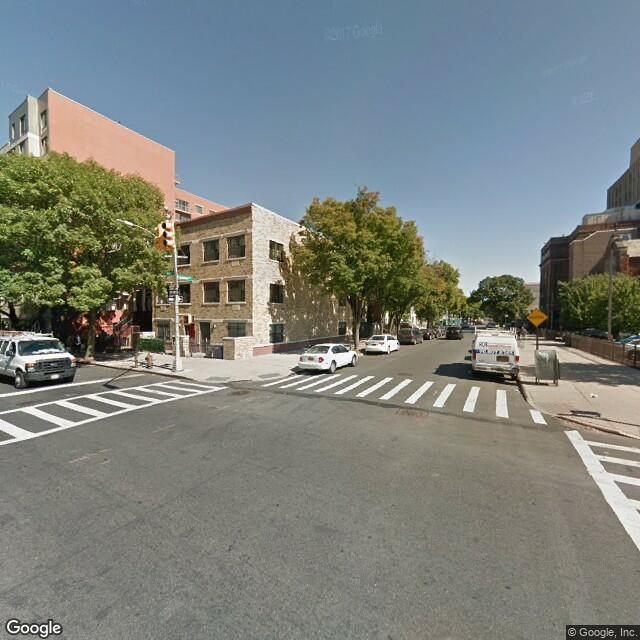litter: (585, 389, 614, 405)
